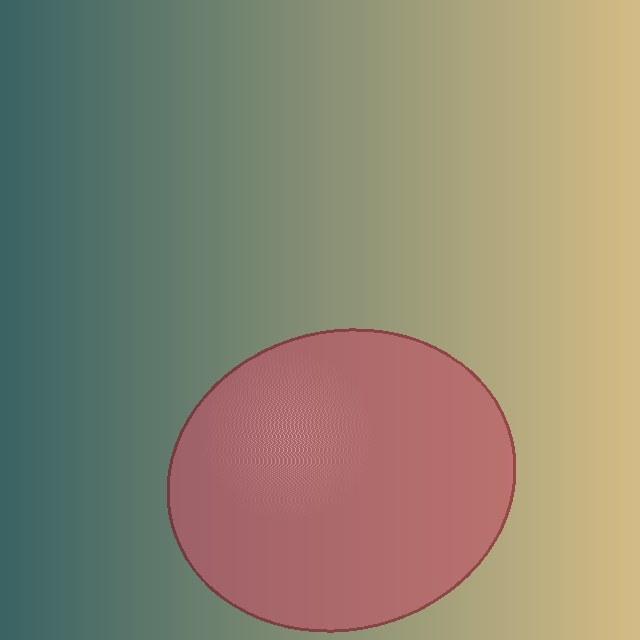lens: (168, 329, 514, 631)
